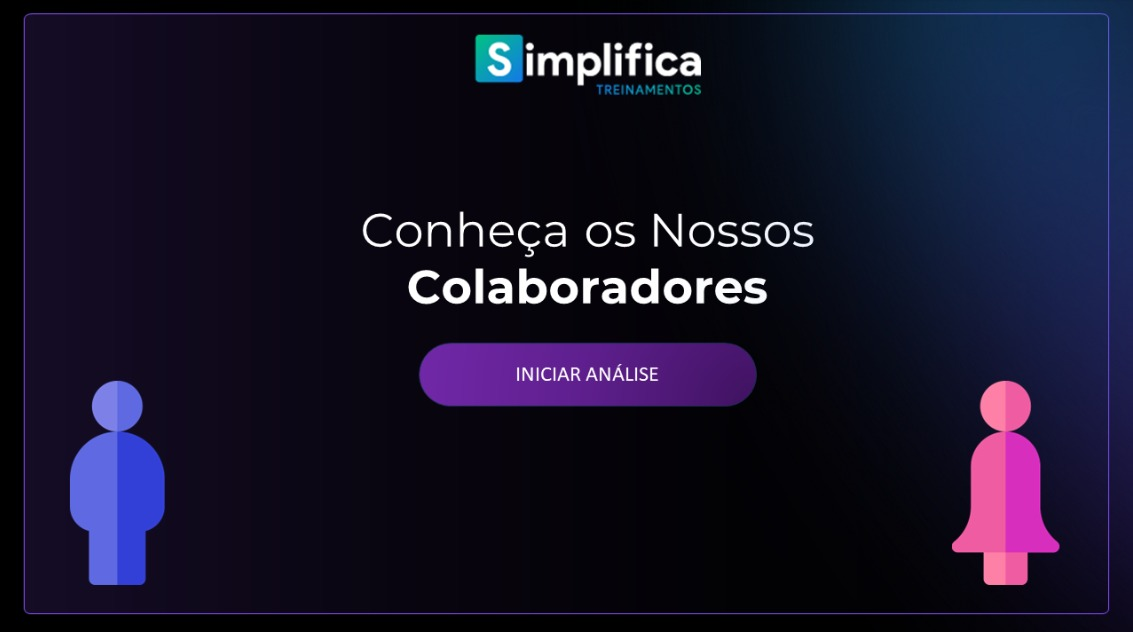

This screenshot's page, from the dashboard's own definition file:
{"tool":"powerbi","page":{"name":"Menu","canvas":[1280,720],"ordinal":0},"visuals":[{"type":"actionButton","box":[474.7,386.7,380.7,72.8],"z":0}]}

Visuals, with their boxes in screenshot pixels (x1, y1, x2, y2), scaled from the page's 1280x720 canvas onto the 1133x632 screenshot:
actionButton: [x1=420, y1=339, x2=757, y2=403]
